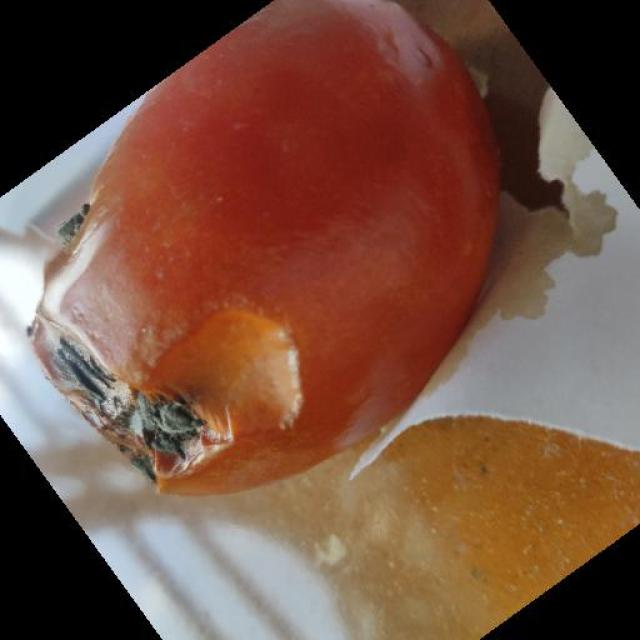Stale_tomato: (0, 9, 490, 490)
